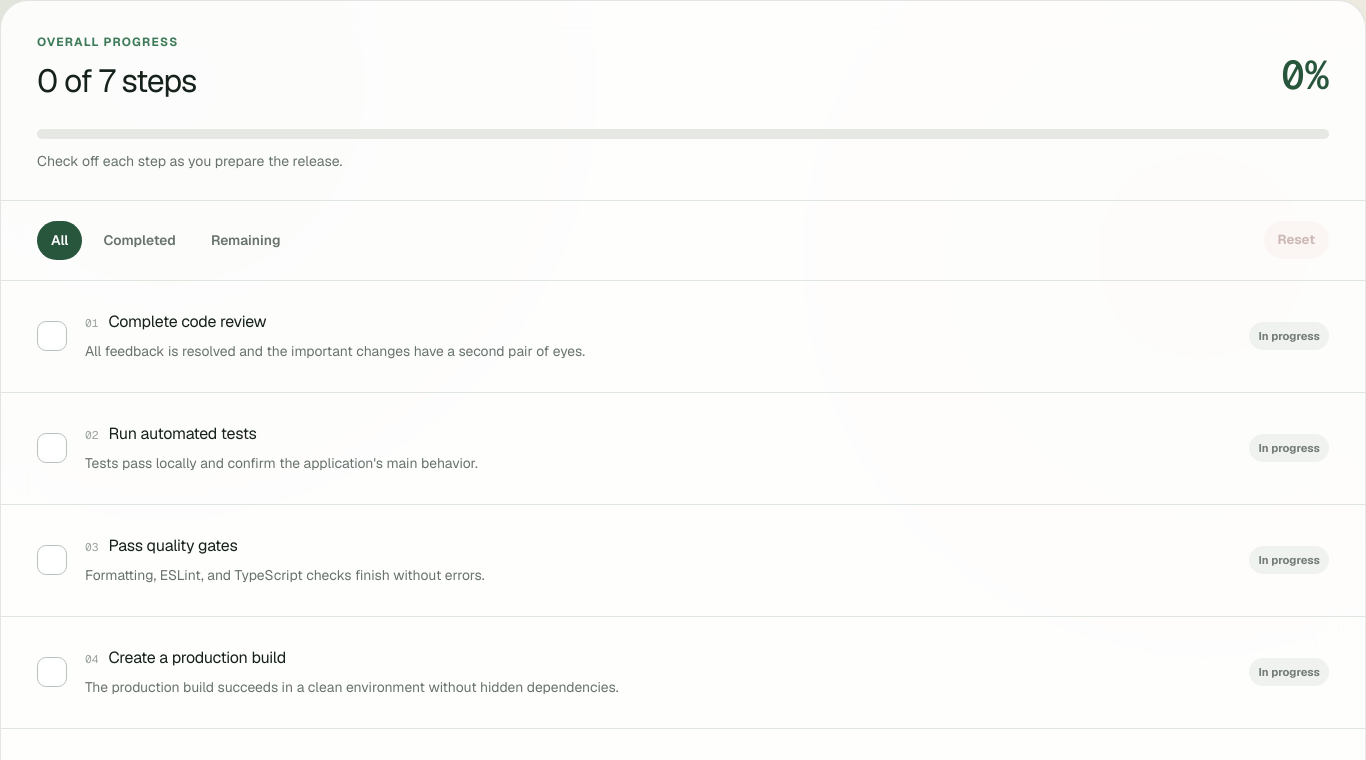
Scenario: ReleaseChecklist › completes a step, saves it, and filters the list
This screenshot has width=1366, height=760.
Click the button named "Mark “Complete code review” as completed" at (52, 336), box [37, 321, 67, 351]
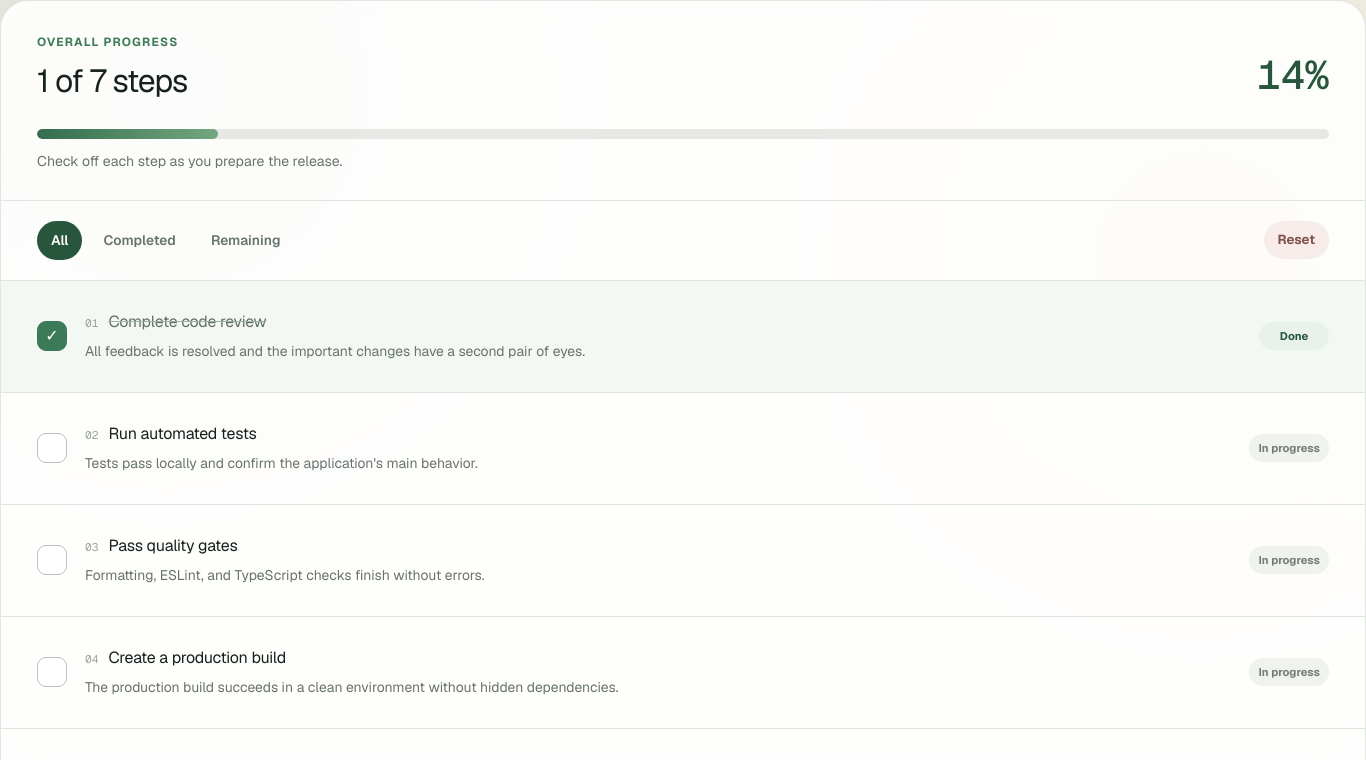
expect the heading "1 of 7 steps" is shown: met, box [37, 57, 187, 105]
Click the button "Completed" at (140, 240), box [90, 221, 190, 260]
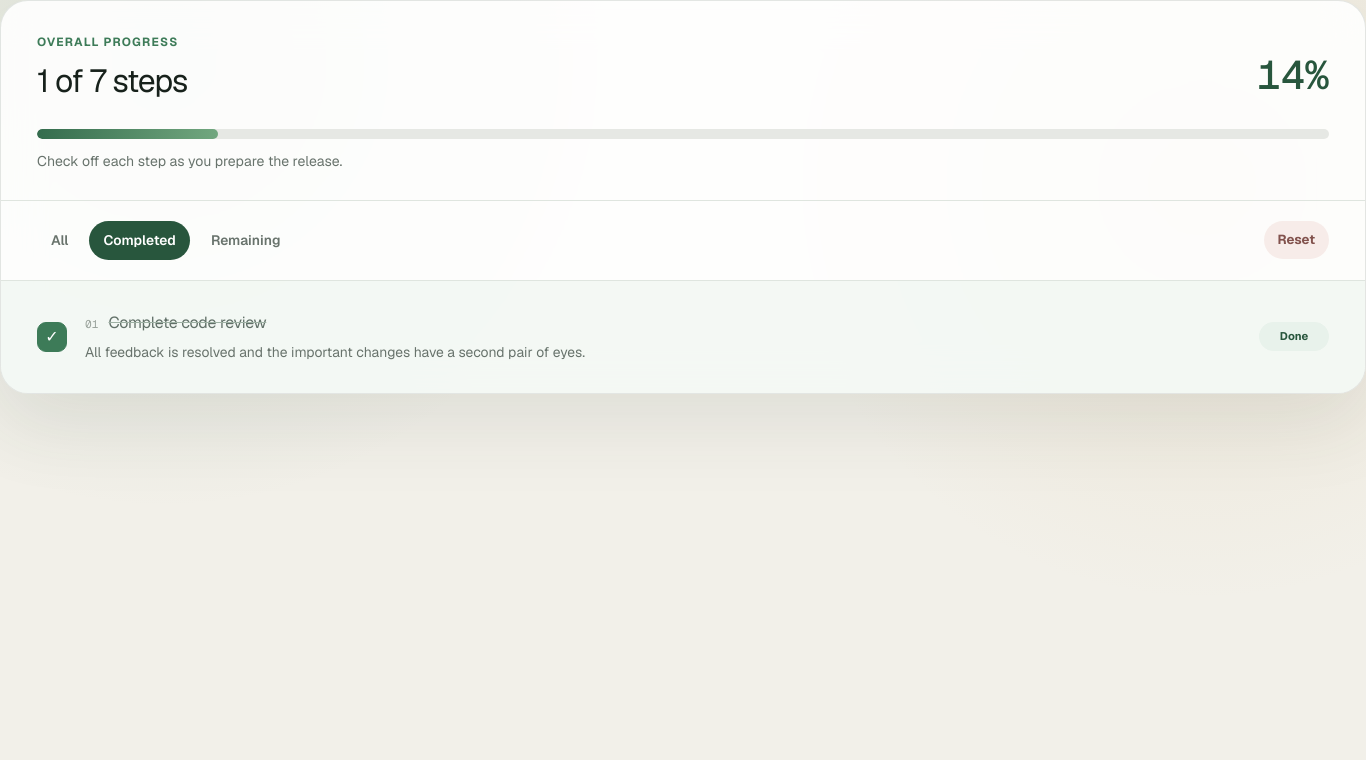
expect the heading "Complete code review" is shown: met, box [108, 311, 266, 335]
expect the heading "Run automated tests" is gone: met
